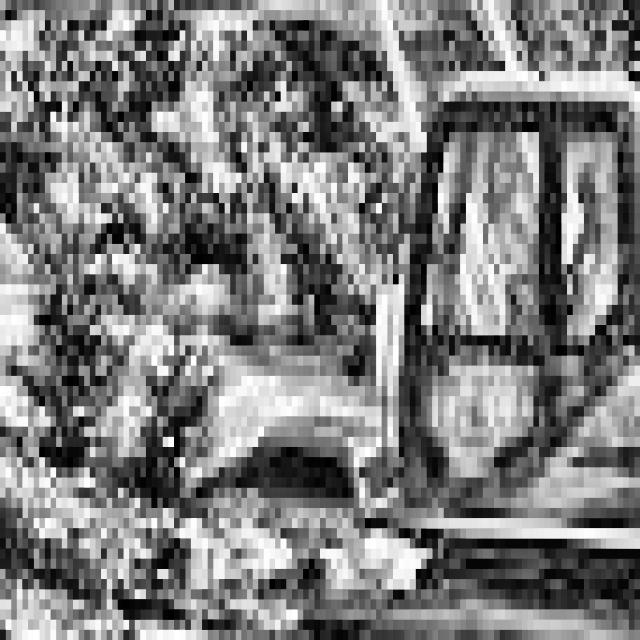excavator: (280, 61, 640, 640)
